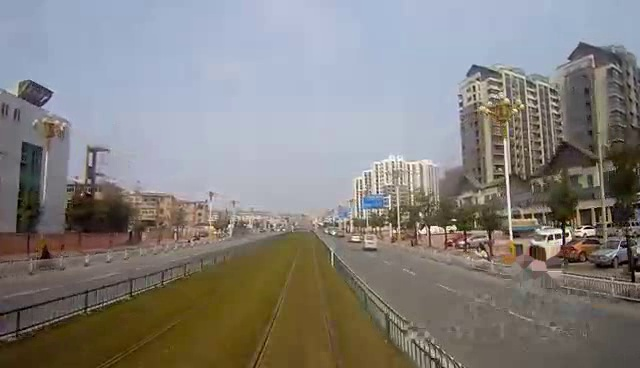car: (362, 230, 380, 254)
